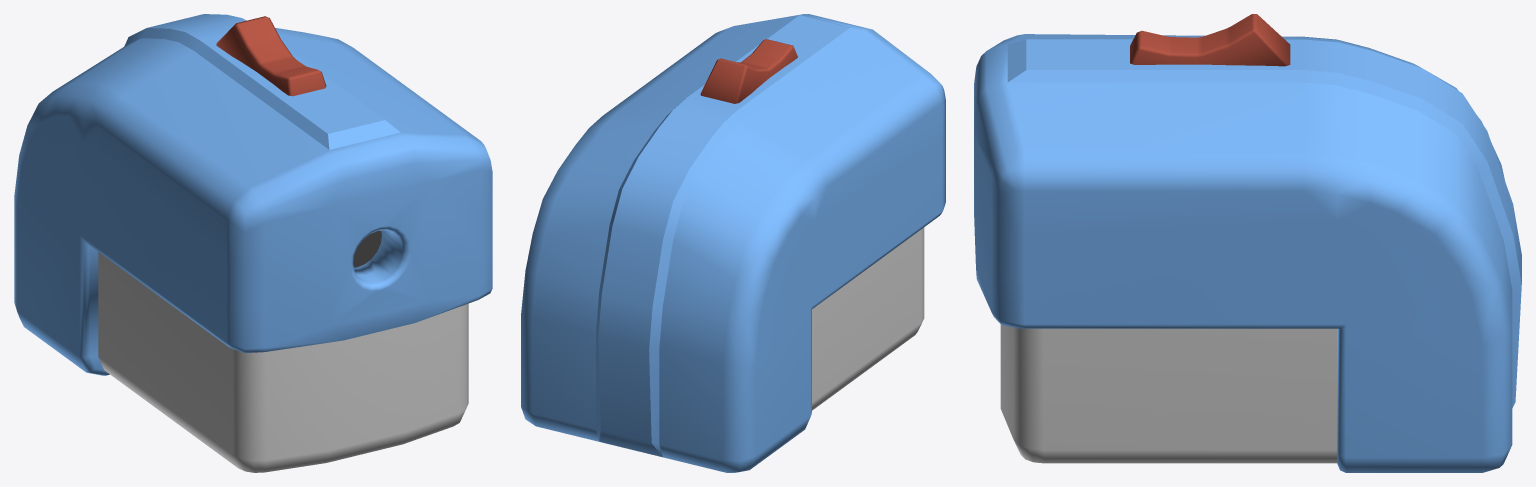
File: Sharpner.fbx
3 views of the same model, side by side, from view 1: azimuth 30°, elevation 25°; view 2: azimuth 150°, elevation 25°; view 3: azimuth 270°, elevation 25° (orthographic). The views are drawn at different scales.
Visible parts, largest first — view 1: Sharpner; view 2: Sharpner; view 3: Sharpner.
Boxes of the visible parts, left/top/right/bottom form: Sharpner: left=14, top=14, right=492, bottom=472; Sharpner: left=521, top=14, right=945, bottom=472; Sharpner: left=974, top=14, right=1521, bottom=472.
Bounding box in the file's own units: 17.13 × 23 × 28.45.
